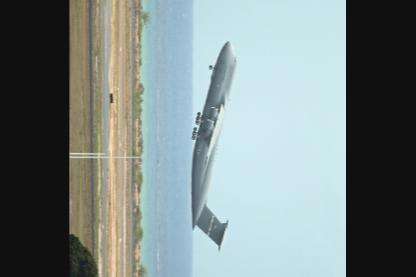C17: (192, 40, 239, 252)
